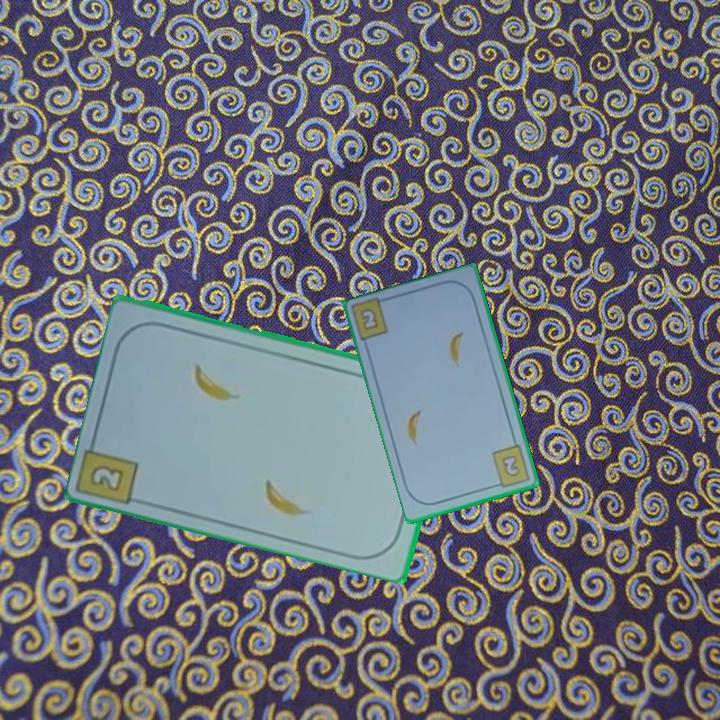2b: (489, 441, 533, 491), (86, 461, 128, 494), (357, 305, 381, 333)
